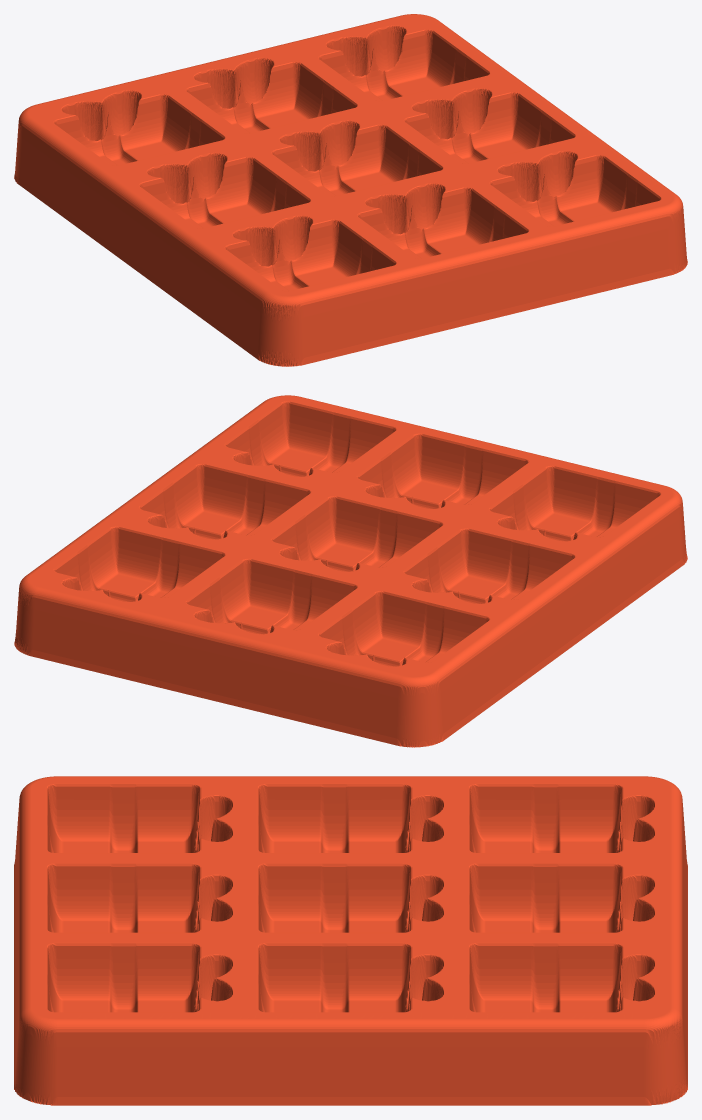
File: mold.glb
The picture shows the model from 3 angles, top to bottom: view 1: azimuth 30°, elevation 25°; view 2: azimuth 150°, elevation 25°; view 3: azimuth 270°, elevation 25°; orthographic projection. The views are drawn at different scales.
Parts seen in each view (by area): view 1: geometry_0; view 2: geometry_0; view 3: geometry_0.
Part boxes in pixels (bbox=[...]): geometry_0: bbox=[14, 14, 687, 366]; geometry_0: bbox=[14, 395, 687, 747]; geometry_0: bbox=[14, 776, 687, 1105].
Size of the model in its own units: 0.126 by 0.0182 by 0.1402.
